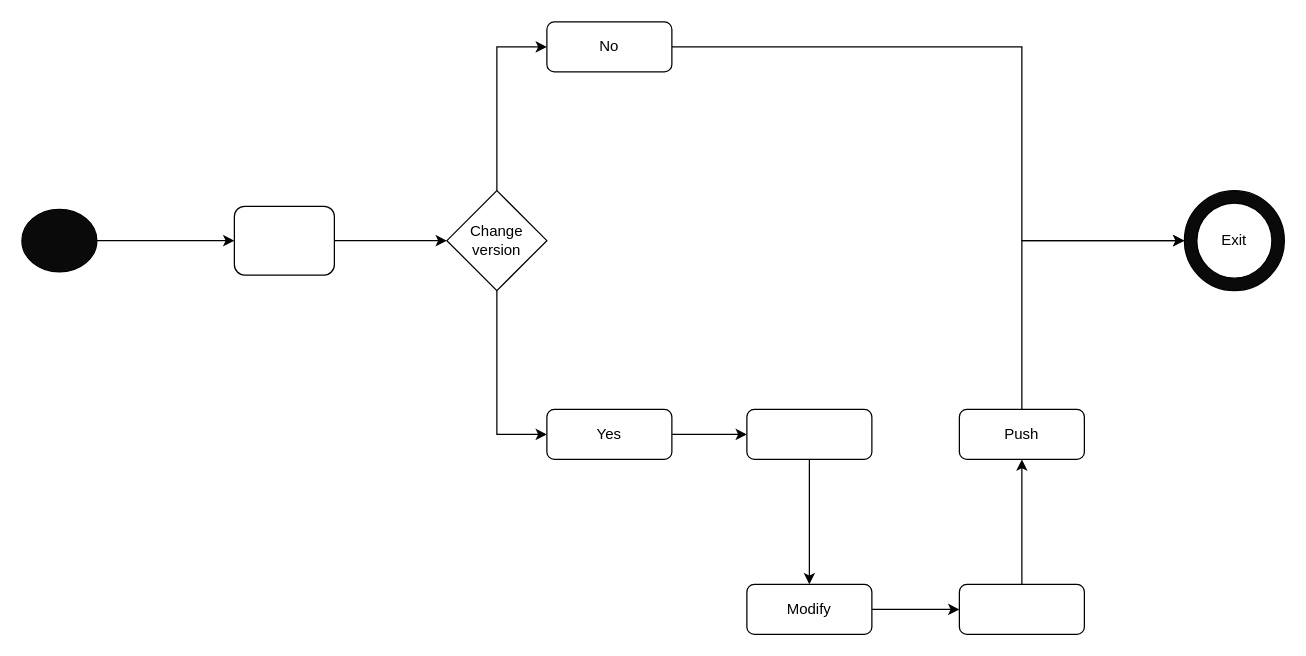
Some shapes in this 1306 by 656 pixel diagram are drawn without their labels. The centre of each missing label's shape, as x and y in pixels:
"Commit" goes at pixel 1021 608.
"Pull" goes at pixel 809 433.
"View History" goes at pixel 283 240.
